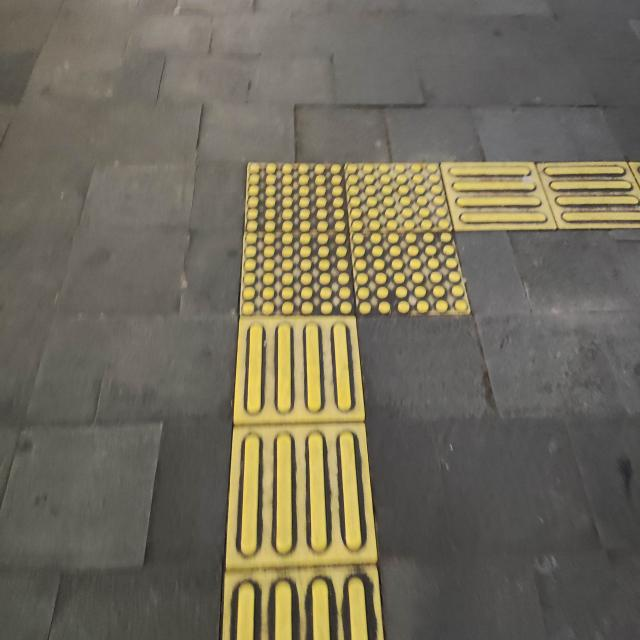kanan: (167, 125, 640, 423)
